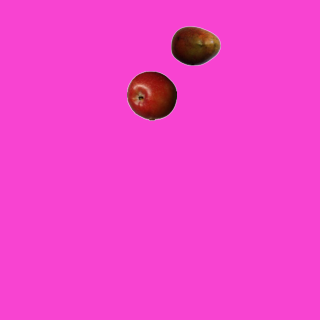Apple Braeburn: (126, 70, 176, 120)
Mango Red: (170, 20, 220, 70)
